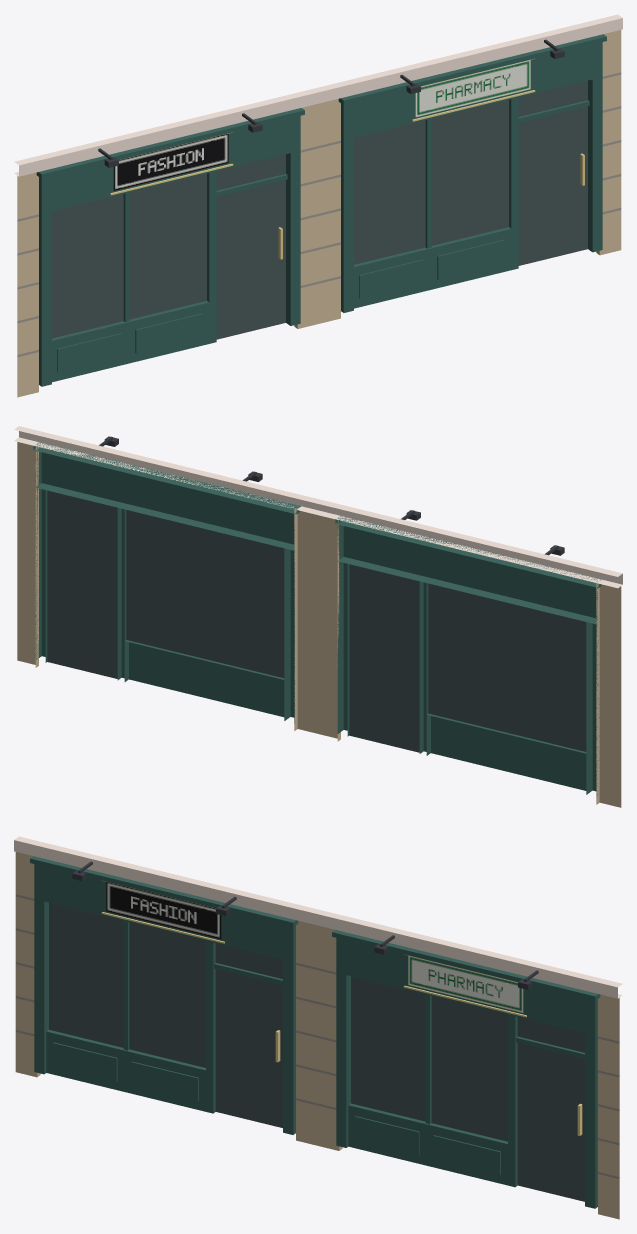
Rendered from base-w3_close.fbx.
3 views of the same model, one above another, from view 1: azimuth 30°, elevation 25°; view 2: azimuth 150°, elevation 25°; view 3: azimuth 330°, elevation 25° (orthographic).
Visible parts, largest first — view 1: a2006/500/base-w3_close; view 2: a2006/500/base-w3_close; view 3: a2006/500/base-w3_close.
Part boxes in pixels (<box>): a2006/500/base-w3_close: <box>14,14,622,397</box>; a2006/500/base-w3_close: <box>14,426,622,807</box>; a2006/500/base-w3_close: <box>14,836,622,1219</box>.
Bounding box in the file's own units: 8.4 × 3.1 × 0.5.
